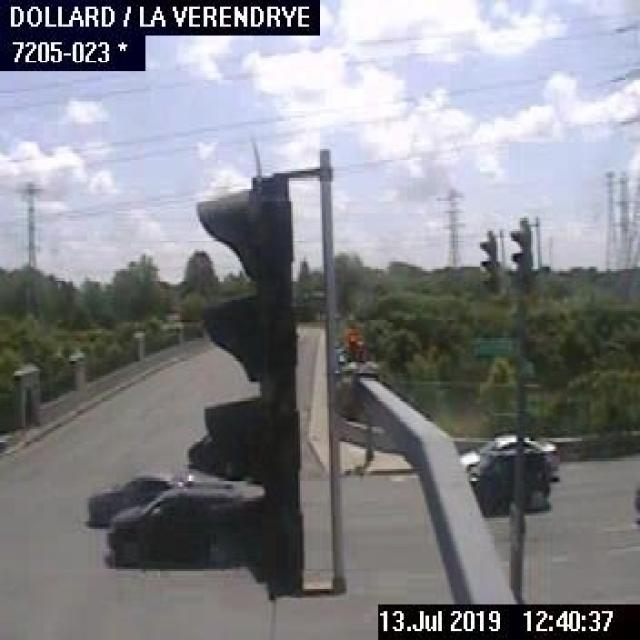vehicle: (106, 486, 251, 569), (463, 446, 549, 513), (86, 473, 176, 530), (456, 432, 560, 479)
